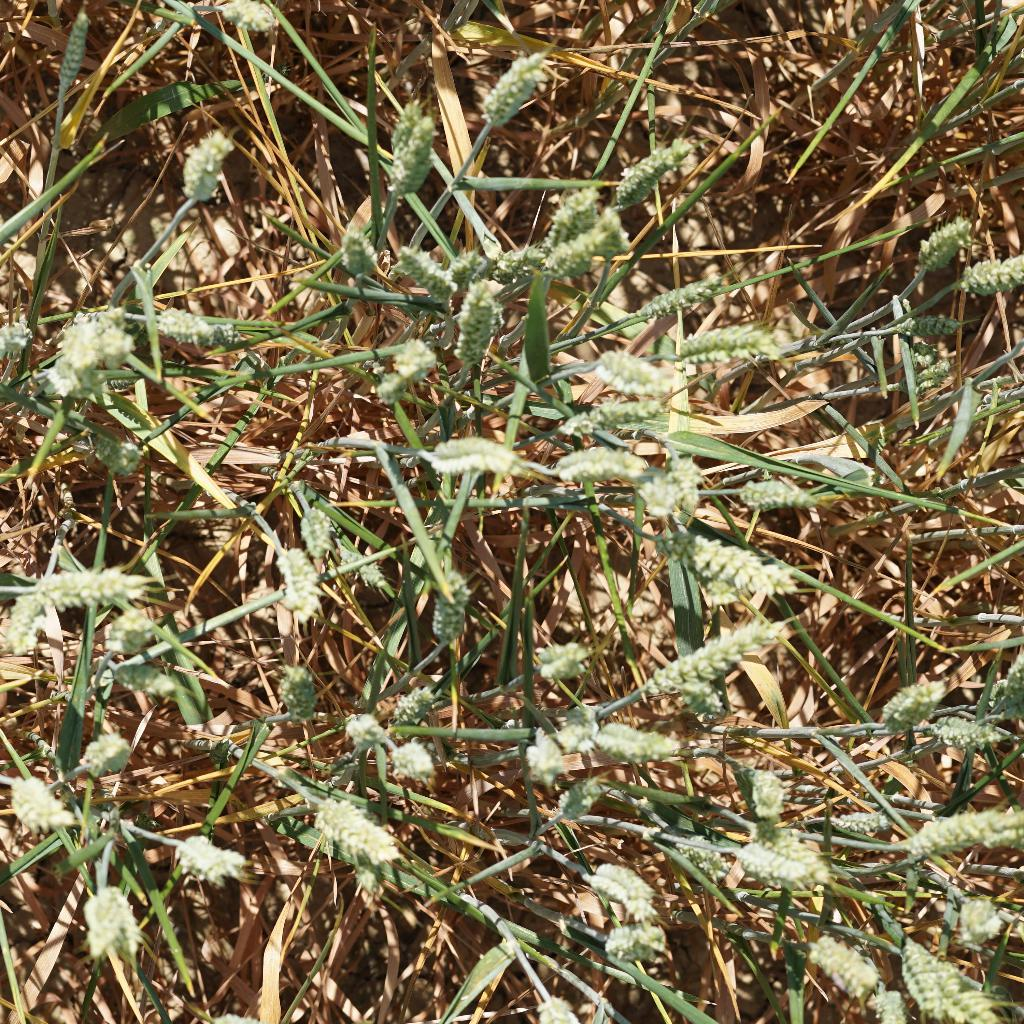0-0: (619, 613, 792, 701), (658, 528, 809, 603), (301, 789, 414, 869), (892, 800, 1021, 860), (478, 40, 553, 136), (38, 307, 122, 392), (608, 132, 694, 211), (671, 306, 772, 373), (417, 432, 527, 490), (538, 217, 632, 284), (81, 884, 153, 971), (750, 817, 848, 878), (589, 346, 679, 411), (550, 436, 650, 490), (383, 97, 438, 194), (580, 849, 666, 911), (381, 93, 429, 204), (579, 712, 679, 765), (90, 595, 171, 660), (167, 829, 251, 891), (887, 928, 950, 1008), (4, 771, 79, 837), (803, 930, 880, 993), (178, 125, 238, 204), (33, 567, 161, 604), (425, 560, 475, 654), (549, 397, 666, 437), (634, 268, 724, 319), (722, 837, 808, 890), (541, 184, 615, 245), (883, 666, 950, 733), (271, 541, 333, 613), (724, 475, 832, 513), (100, 651, 182, 701), (933, 699, 1009, 752), (915, 209, 976, 275), (453, 291, 505, 368), (400, 235, 462, 296), (150, 302, 222, 354), (945, 251, 1024, 297), (957, 881, 1006, 955), (272, 657, 322, 728), (335, 540, 394, 600), (529, 636, 596, 688), (55, 5, 95, 91), (735, 760, 792, 819), (0, 580, 44, 656), (668, 830, 733, 881), (658, 452, 709, 513), (479, 243, 551, 286), (598, 916, 675, 956), (76, 728, 139, 776), (337, 223, 382, 290), (941, 979, 1008, 1024), (529, 728, 576, 791), (202, 0, 281, 37), (386, 336, 442, 386), (381, 736, 436, 784), (886, 358, 954, 396), (337, 706, 389, 755), (88, 431, 144, 474), (890, 310, 963, 342), (632, 473, 682, 519), (551, 776, 602, 820), (292, 504, 336, 552), (832, 808, 895, 839), (387, 675, 429, 716), (198, 319, 250, 351), (445, 246, 478, 296), (533, 993, 586, 1024), (0, 317, 30, 368), (895, 340, 944, 370), (368, 371, 409, 405), (348, 863, 384, 895), (207, 738, 231, 767)
